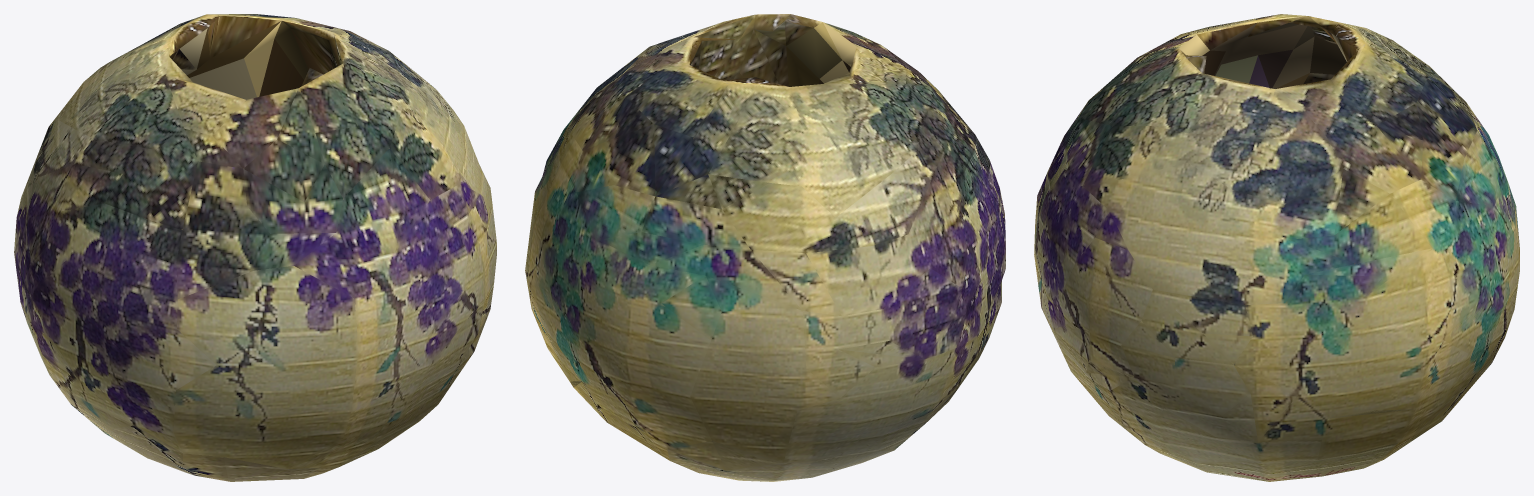
The model's file is AC2 Jolex Ciara Grapes2-512.glb.
3 renders of one model, left to right at view 1: azimuth 30°, elevation 25°; view 2: azimuth 150°, elevation 25°; view 3: azimuth 270°, elevation 25°, orthographic.
Size of the model in its own units: 1000 by 939 by 995.
1 material, 1 textured.
